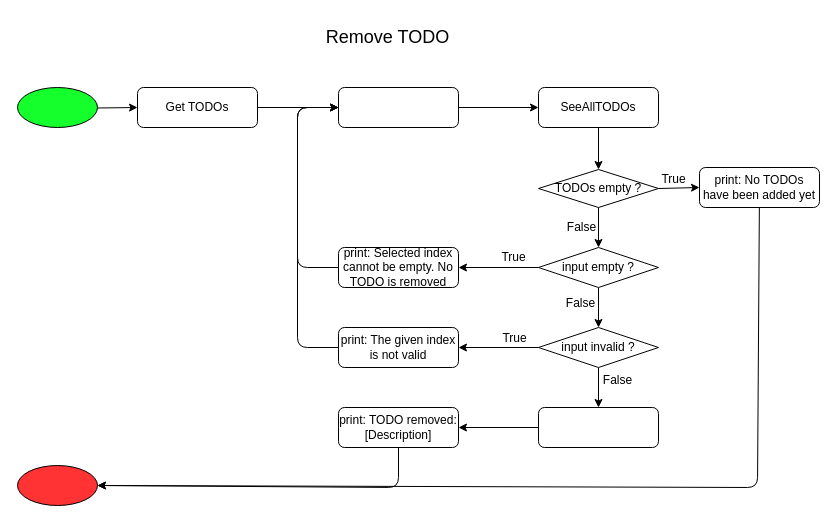
The diagram is 837 pixels wide and 523 high, and some of its shapes have lost their labels. The shapes that lost their labels are listed below. From the top down, each one's centre as x and y in pixels, then its label:
At pixel 57 107: "Start".
At pixel 398 107: "print: Select the index of the TODO you want to remove".
At pixel 598 427: "Remove selected TODO from TODOs".
At pixel 57 485: "End".
